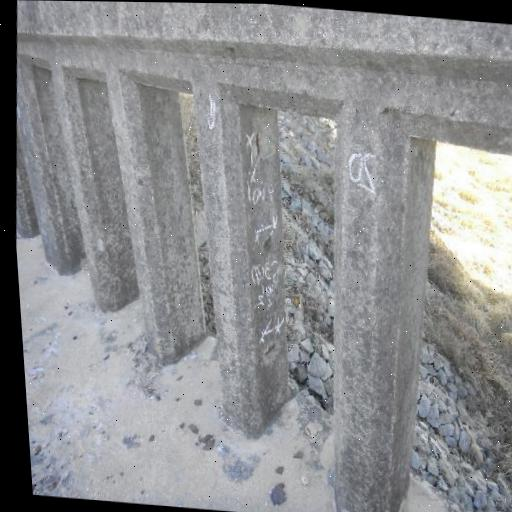exposed_rebar: (265, 344, 275, 356), (255, 133, 259, 156), (263, 238, 272, 248)
